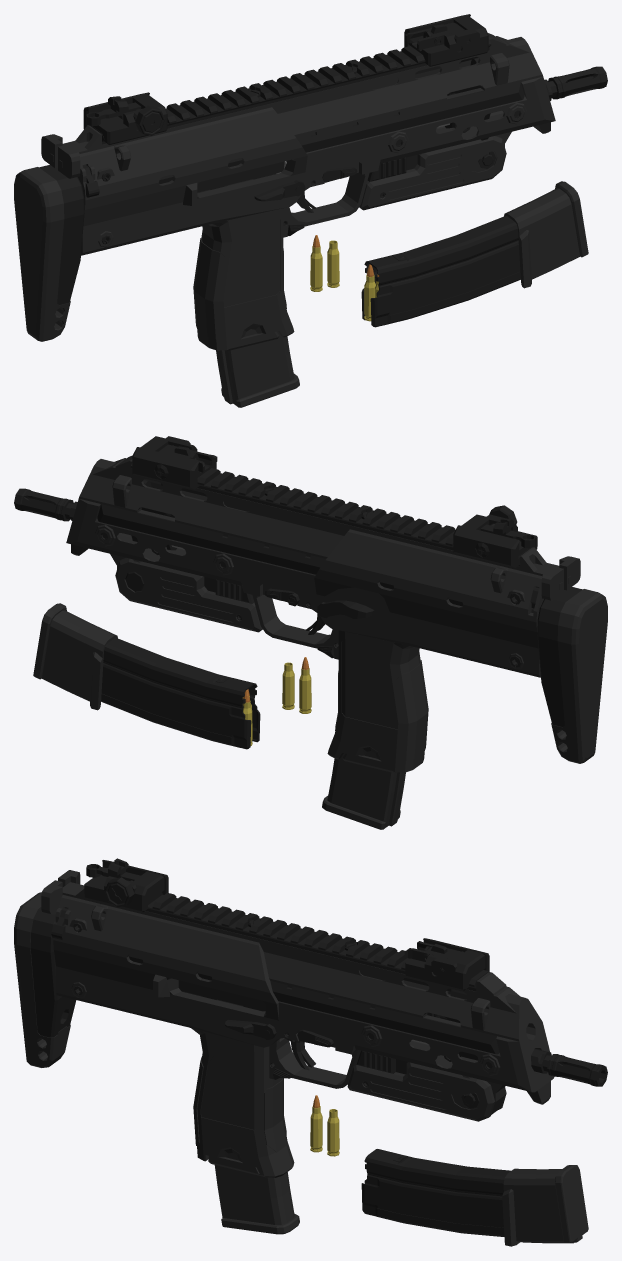
3 renders of one model, top to bottom at view 1: azimuth 30°, elevation 25°; view 2: azimuth 150°, elevation 25°; view 3: azimuth 330°, elevation 25°, orthographic.
Visible parts, largest first — view 1: mp7a1_receiver_6, _630_mp7_30rnd_mag_3, mp7a1_stock_10, mp7a1_integrated_folding_foregrip_9, _630_mp7_30rnd_empty_mag_2, mp7a1_reaar_iron_sight_15, mp7a1_front_iron_sight_14, mp7a1_flash_hider_5, mp7a1_charging_handle_8, mp7a1_bolt_carrier_7, mp7a1_selector_11, __6x30_0 (+1 smaller); view 2: mp7a1_receiver_6, _630_mp7_30rnd_mag_3, mp7a1_stock_10, mp7a1_integrated_folding_foregrip_9, _630_mp7_30rnd_empty_mag_2, mp7a1_reaar_iron_sight_15, mp7a1_front_iron_sight_14, mp7a1_flash_hider_5, mp7a1_charging_handle_8, mp7a1_selector_11, __6x30_0, Object_2; view 3: mp7a1_receiver_6, _630_mp7_30rnd_mag_3, mp7a1_stock_10, mp7a1_integrated_folding_foregrip_9, _630_mp7_30rnd_empty_mag_2, mp7a1_reaar_iron_sight_15, mp7a1_front_iron_sight_14, mp7a1_flash_hider_5, mp7a1_bolt_carrier_7, mp7a1_charging_handle_8, mp7a1_selector_11, __6x30_0 (+1 smaller).
Part boxes in pixels (bbox=[...]): mp7a1_receiver_6: bbox=[50, 33, 555, 350]; _630_mp7_30rnd_mag_3: bbox=[361, 181, 588, 327]; mp7a1_stock_10: bbox=[14, 82, 524, 341]; mp7a1_integrated_folding_foregrip_9: bbox=[359, 135, 506, 210]; _630_mp7_30rnd_empty_mag_2: bbox=[216, 174, 299, 407]; mp7a1_reaar_iron_sight_15: bbox=[83, 92, 167, 144]; mp7a1_front_iron_sight_14: bbox=[404, 14, 488, 66]; mp7a1_flash_hider_5: bbox=[544, 66, 607, 100]; mp7a1_charging_handle_8: bbox=[41, 134, 80, 178]; mp7a1_bolt_carrier_7: bbox=[197, 68, 450, 192]; mp7a1_selector_11: bbox=[254, 173, 305, 201]; __6x30_0: bbox=[310, 235, 322, 291]; mp7a1_receiver_6: bbox=[66, 456, 571, 772]; _630_mp7_30rnd_mag_3: bbox=[33, 603, 260, 749]; mp7a1_stock_10: bbox=[97, 504, 607, 763]; mp7a1_integrated_folding_foregrip_9: bbox=[115, 557, 262, 632]; _630_mp7_30rnd_empty_mag_2: bbox=[322, 753, 405, 829]; mp7a1_reaar_iron_sight_15: bbox=[453, 505, 537, 567]; mp7a1_front_iron_sight_14: bbox=[132, 436, 217, 489]; mp7a1_flash_hider_5: bbox=[14, 488, 77, 521]; mp7a1_charging_handle_8: bbox=[541, 556, 580, 600]; mp7a1_selector_11: bbox=[317, 600, 374, 618]; __6x30_0: bbox=[299, 657, 311, 713]; Object_2: bbox=[282, 662, 294, 709]; mp7a1_receiver_6: bbox=[51, 882, 554, 1177]; _630_mp7_30rnd_mag_3: bbox=[361, 1149, 588, 1246]; mp7a1_stock_10: bbox=[14, 892, 499, 1067]; mp7a1_integrated_folding_foregrip_9: bbox=[347, 1050, 506, 1121]; _630_mp7_30rnd_empty_mag_2: bbox=[208, 999, 299, 1234]; mp7a1_reaar_iron_sight_15: bbox=[84, 858, 168, 912]; mp7a1_front_iron_sight_14: bbox=[404, 938, 489, 990]; mp7a1_flash_hider_5: bbox=[531, 1048, 607, 1086]; mp7a1_bolt_carrier_7: bbox=[178, 980, 450, 1017]; mp7a1_charging_handle_8: bbox=[41, 870, 80, 914]; mp7a1_selector_11: bbox=[225, 1020, 276, 1039]; __6x30_0: bbox=[310, 1095, 322, 1152].
Size of the model in its own units: 4.16 by 2.29 by 0.4978.
